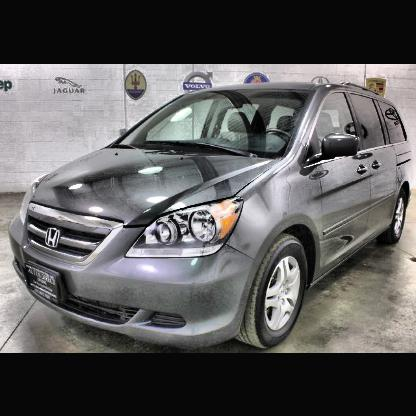Honda Odyssey Minivan 2007: (12, 83, 416, 353)
